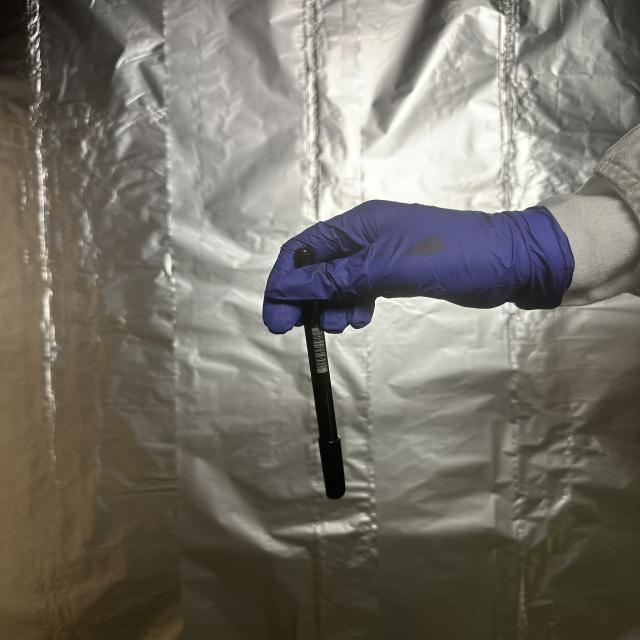gloves_contaminated: (263, 200, 574, 334)
